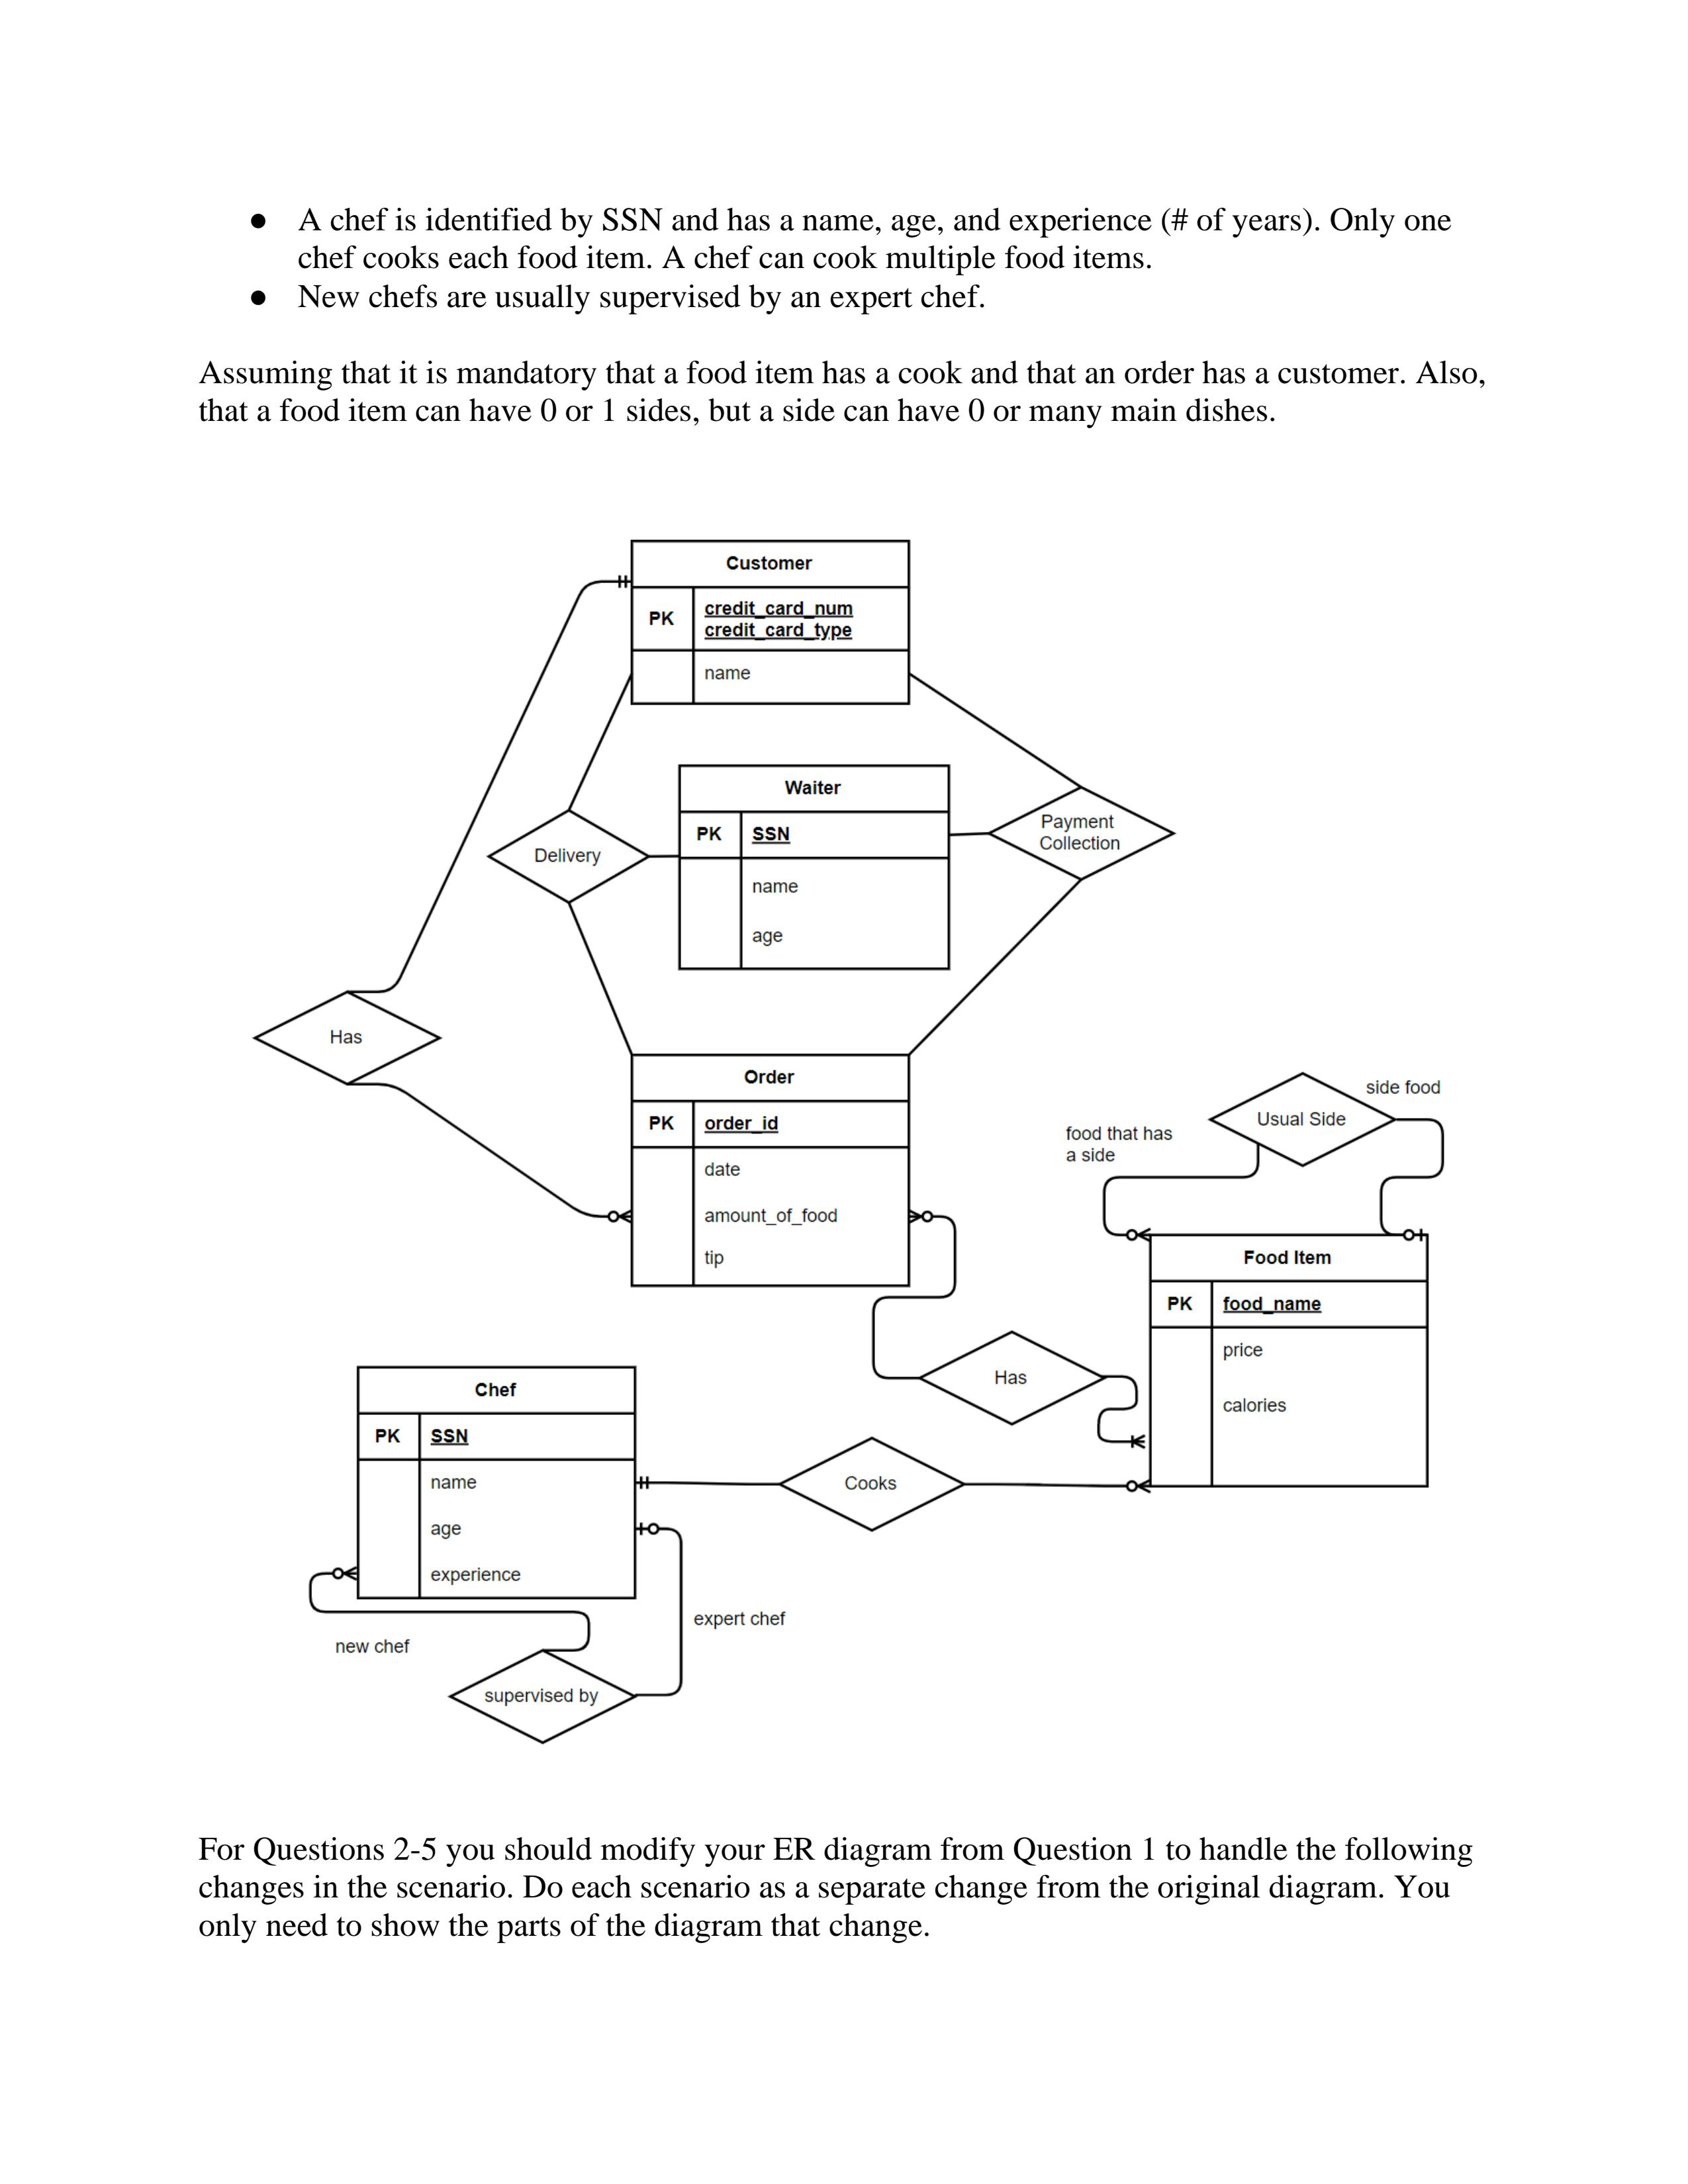Entity: (1149, 1234, 1429, 1489), (355, 1365, 638, 1601), (629, 1053, 911, 1287), (677, 764, 952, 971), (629, 539, 911, 706)
Relationship: (1207, 1072, 1395, 1172), (920, 1330, 1108, 1427), (252, 991, 443, 1085), (449, 1649, 635, 1744), (989, 787, 1176, 881), (780, 1438, 961, 1530), (484, 808, 649, 902)
